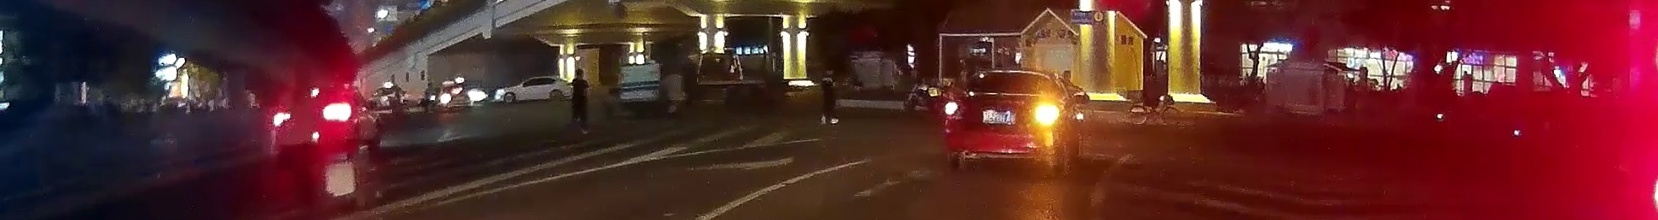L_light: (945, 100, 964, 120)
R_light: (1035, 104, 1060, 123)
T_light: (1003, 76, 1015, 80)
night-right: (937, 68, 1076, 176)
